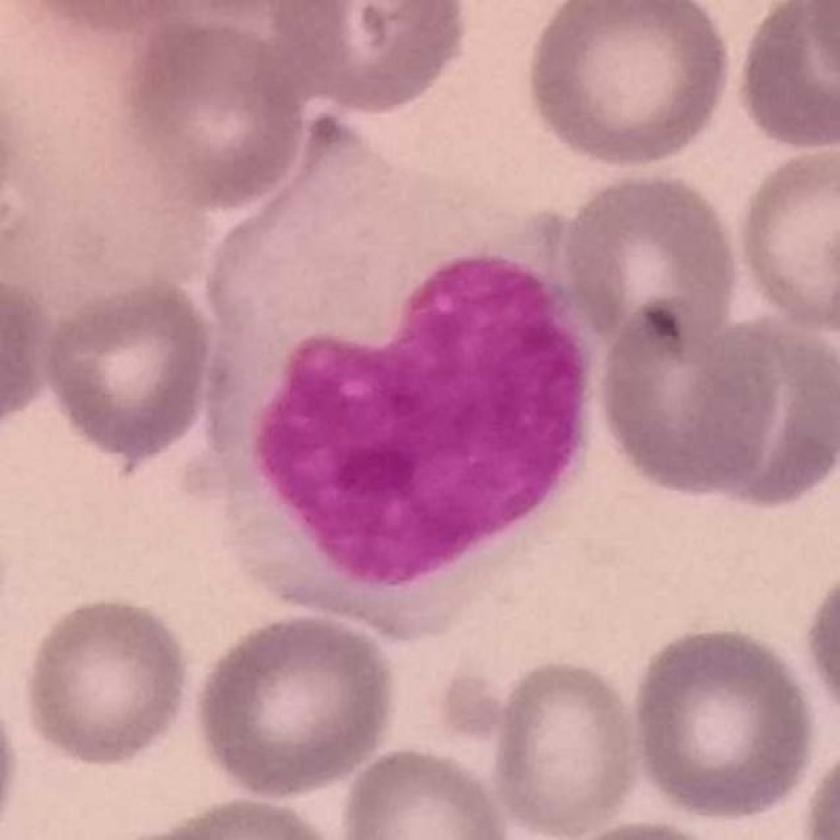monocyte: (197, 102, 621, 648)
